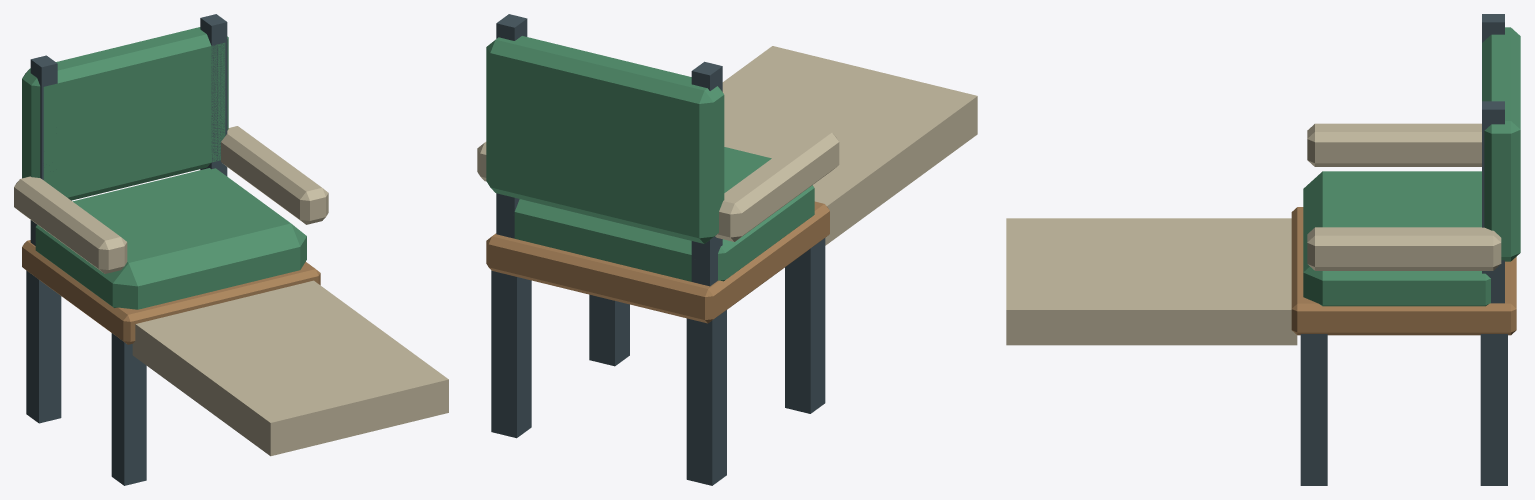
Rendered from examination_chair.glb.
The picture shows the model from 3 angles, left to right: view 1: azimuth 30°, elevation 25°; view 2: azimuth 150°, elevation 25°; view 3: azimuth 270°, elevation 25°; orthographic projection. The views are drawn at different scales.
Parts seen in each view (by area): view 1: examination_chair; view 2: examination_chair; view 3: examination_chair.
Part boxes in pixels (x1,y1,x2,y2): examination_chair: [14, 14, 448, 485]; examination_chair: [477, 14, 977, 485]; examination_chair: [1006, 14, 1520, 485].
Size of the model in its own units: 0.7224 by 1.06 by 1.32.
